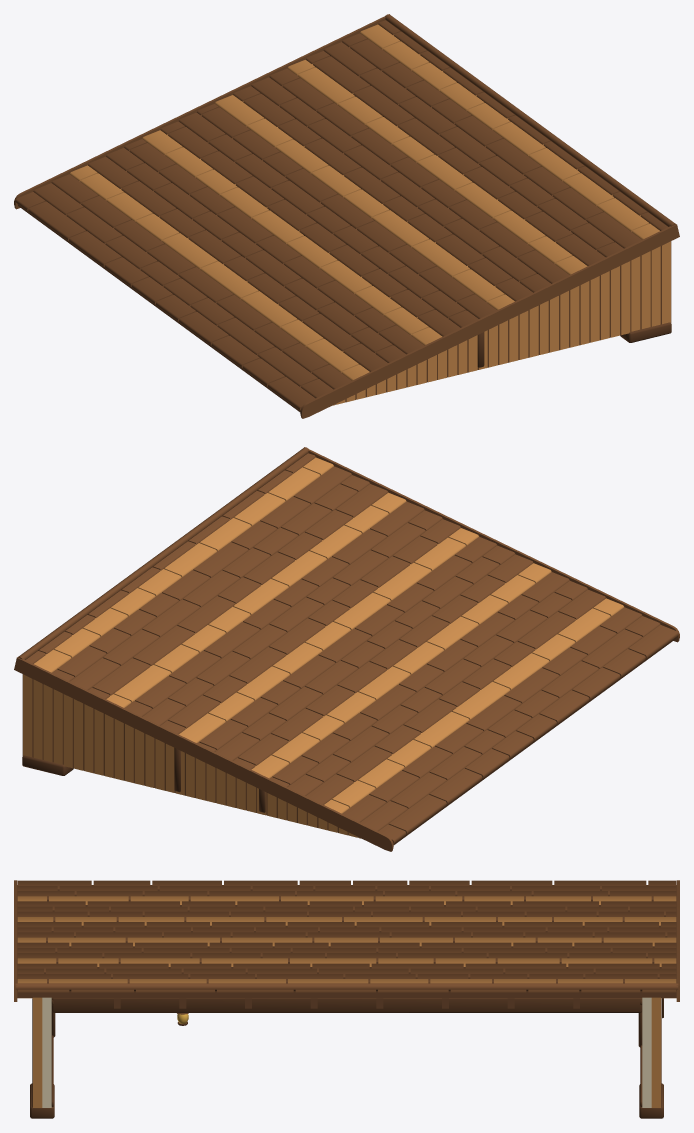
File: ShopRoofSalaJuegos.fbx
3 views of the same model, one above another, from view 1: azimuth 30°, elevation 25°; view 2: azimuth 150°, elevation 25°; view 3: azimuth 270°, elevation 25° (orthographic). The views are drawn at different scales.
Visible parts, largest first — view 1: ShopRoofSalaJuegos; view 2: ShopRoofSalaJuegos; view 3: ShopRoofSalaJuegos.
Part boxes in pixels (x1,y1,x2,y2): ShopRoofSalaJuegos: (14, 14, 679, 418); ShopRoofSalaJuegos: (14, 447, 679, 851); ShopRoofSalaJuegos: (14, 880, 679, 1118).
Bounding box in the file's own units: 8.17 × 2.37 × 10.71.
